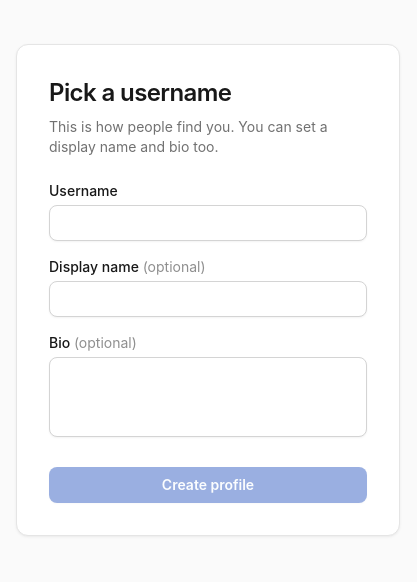
an over-long display name or bio is reported inline
This screenshot has width=417, height=582.
Type "ada_lovelace" into the field labelled "Username" at x=208, y=223, box [49, 205, 367, 241]
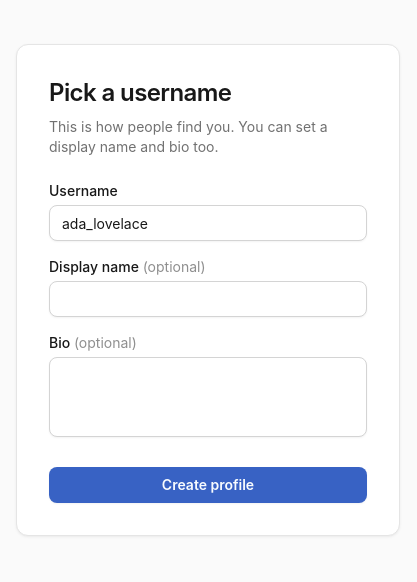
Click the button "Create profile" at x=208, y=485, box [49, 467, 367, 503]
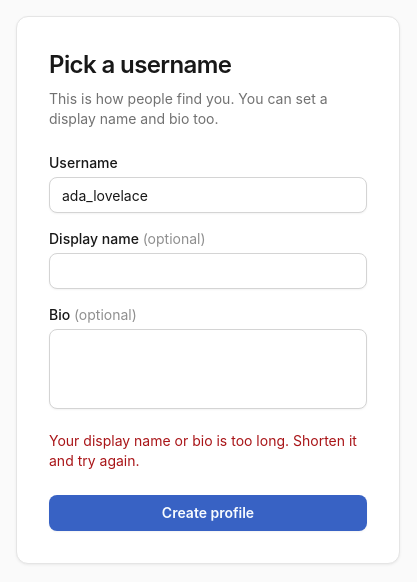
Expected: the text "Your display name or bio is too long. Shorten it and try again." is shown, [49, 431, 367, 471]
